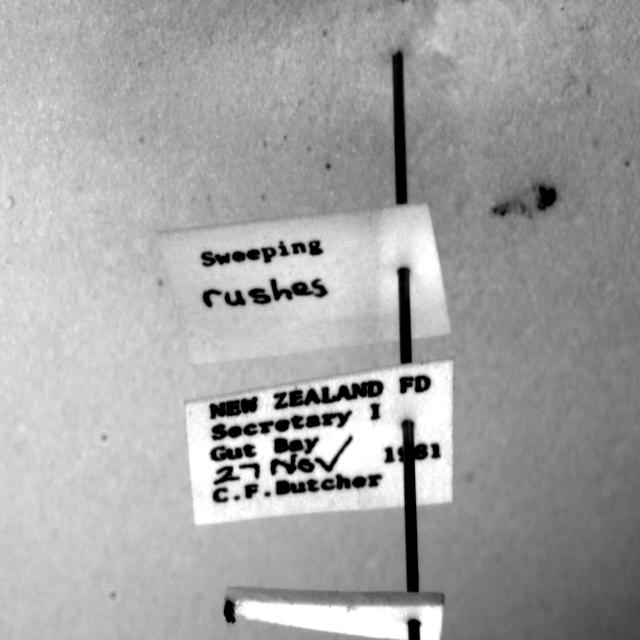mixed_label: (159, 204, 451, 364), (185, 360, 454, 525)
